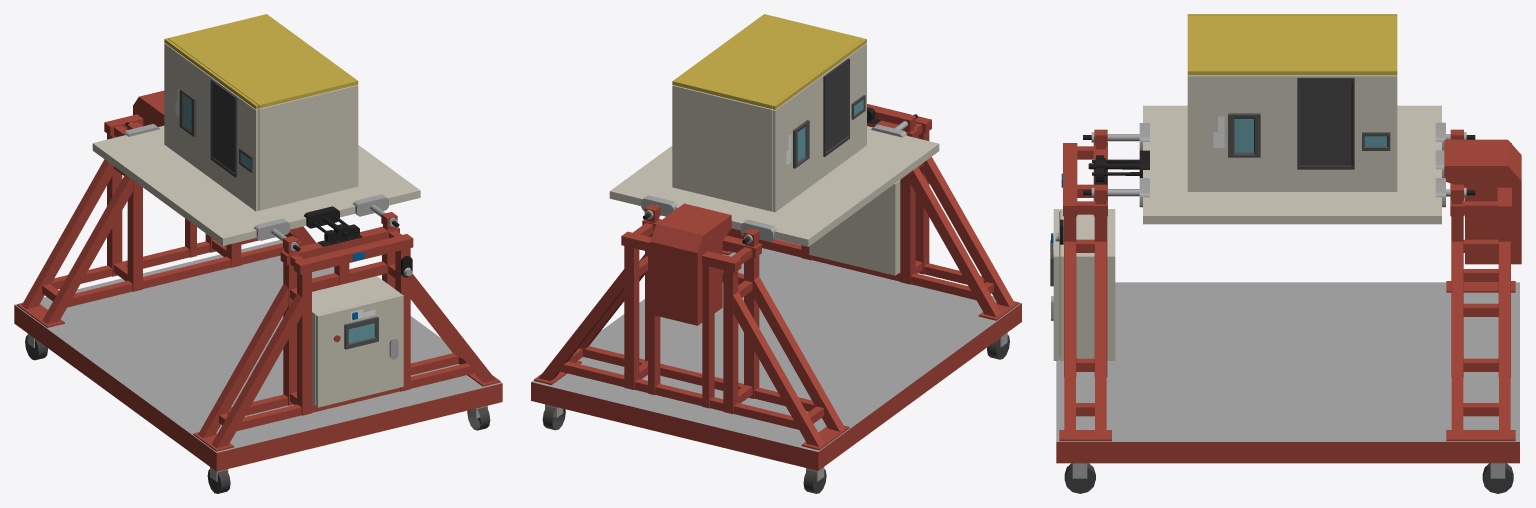
File: z_hong_01.fbx
3 renders of one model, left to right at view 1: azimuth 30°, elevation 25°; view 2: azimuth 150°, elevation 25°; view 3: azimuth 270°, elevation 25°, orthographic. The views are drawn at different scales.
Parts seen in each view (by area): view 1: hong_01; view 2: hong_01; view 3: hong_01.
Part boxes in pixels (<box>): hong_01: <box>14,14,502,493</box>; hong_01: <box>531,14,1021,493</box>; hong_01: <box>1050,14,1521,493</box>.
Size of the model in its own units: 252 by 279 by 314.
